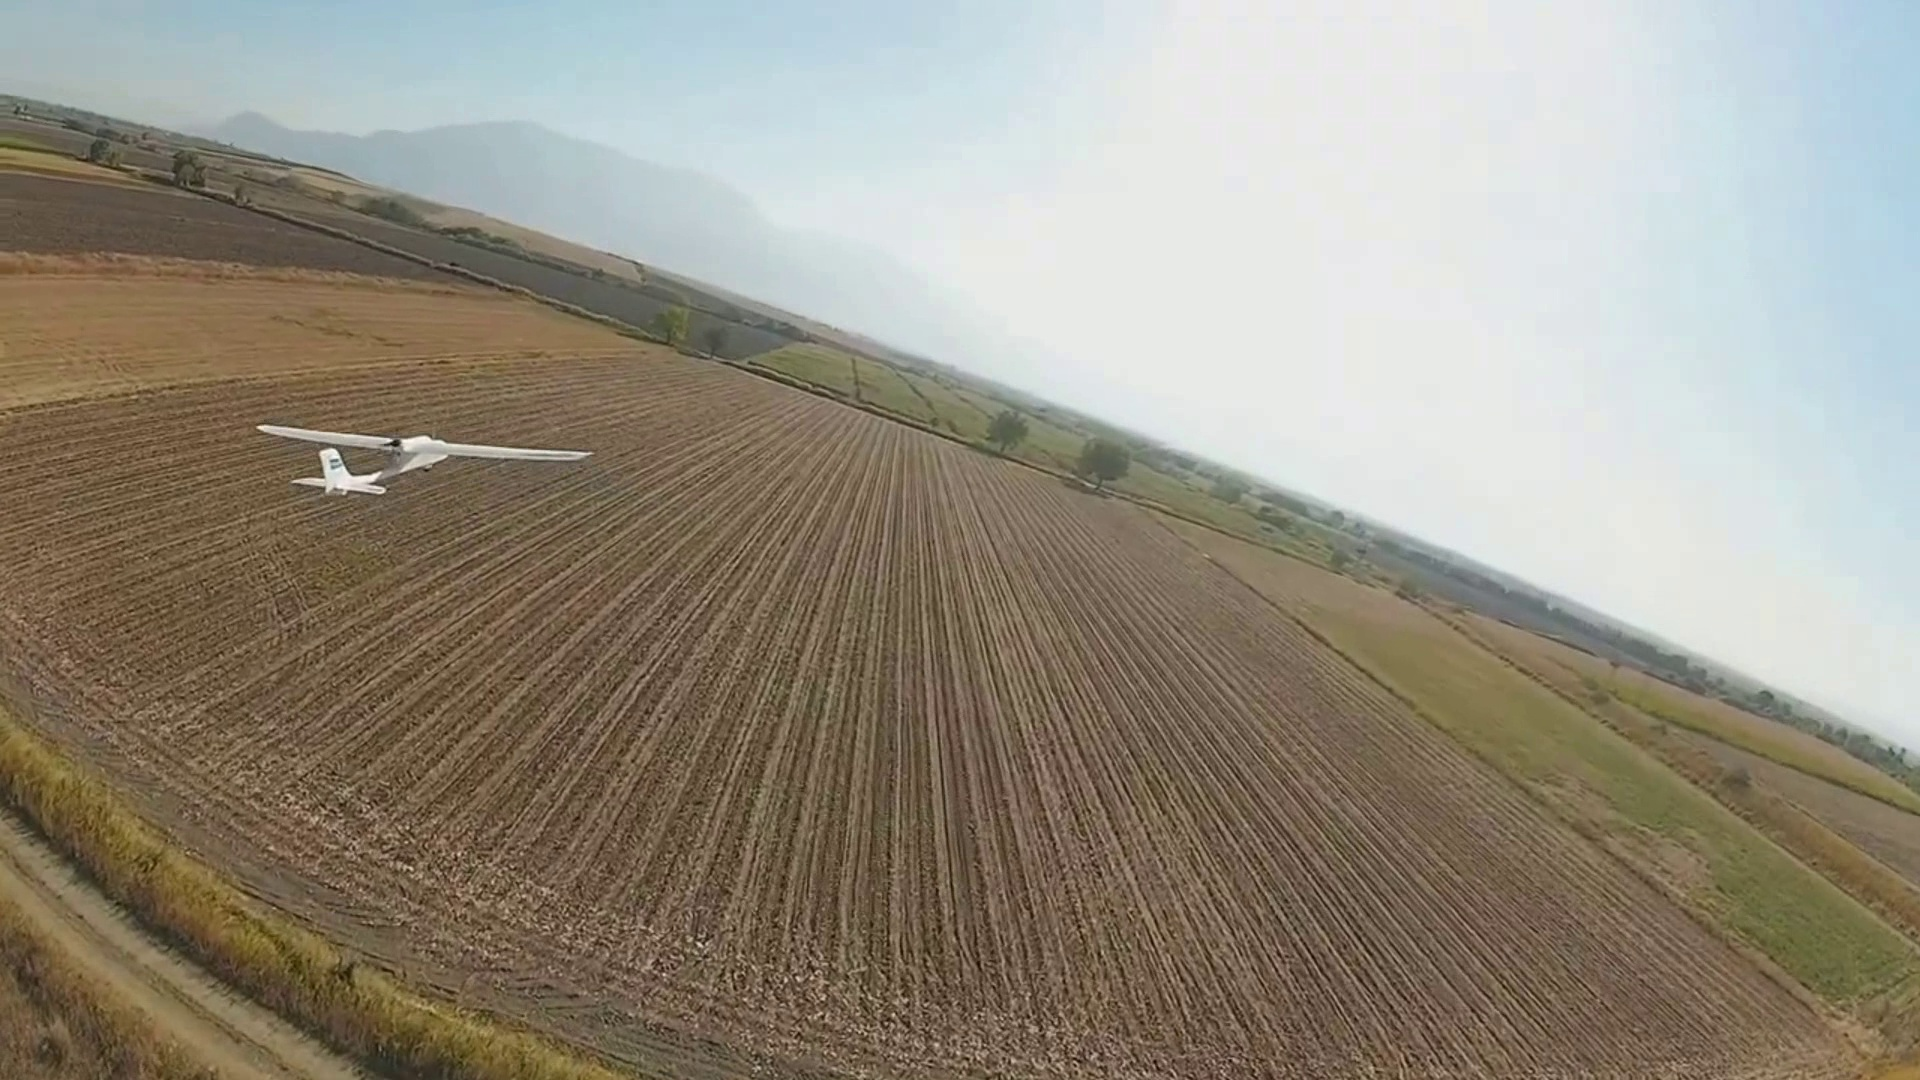airplane: (255, 422, 589, 498)
